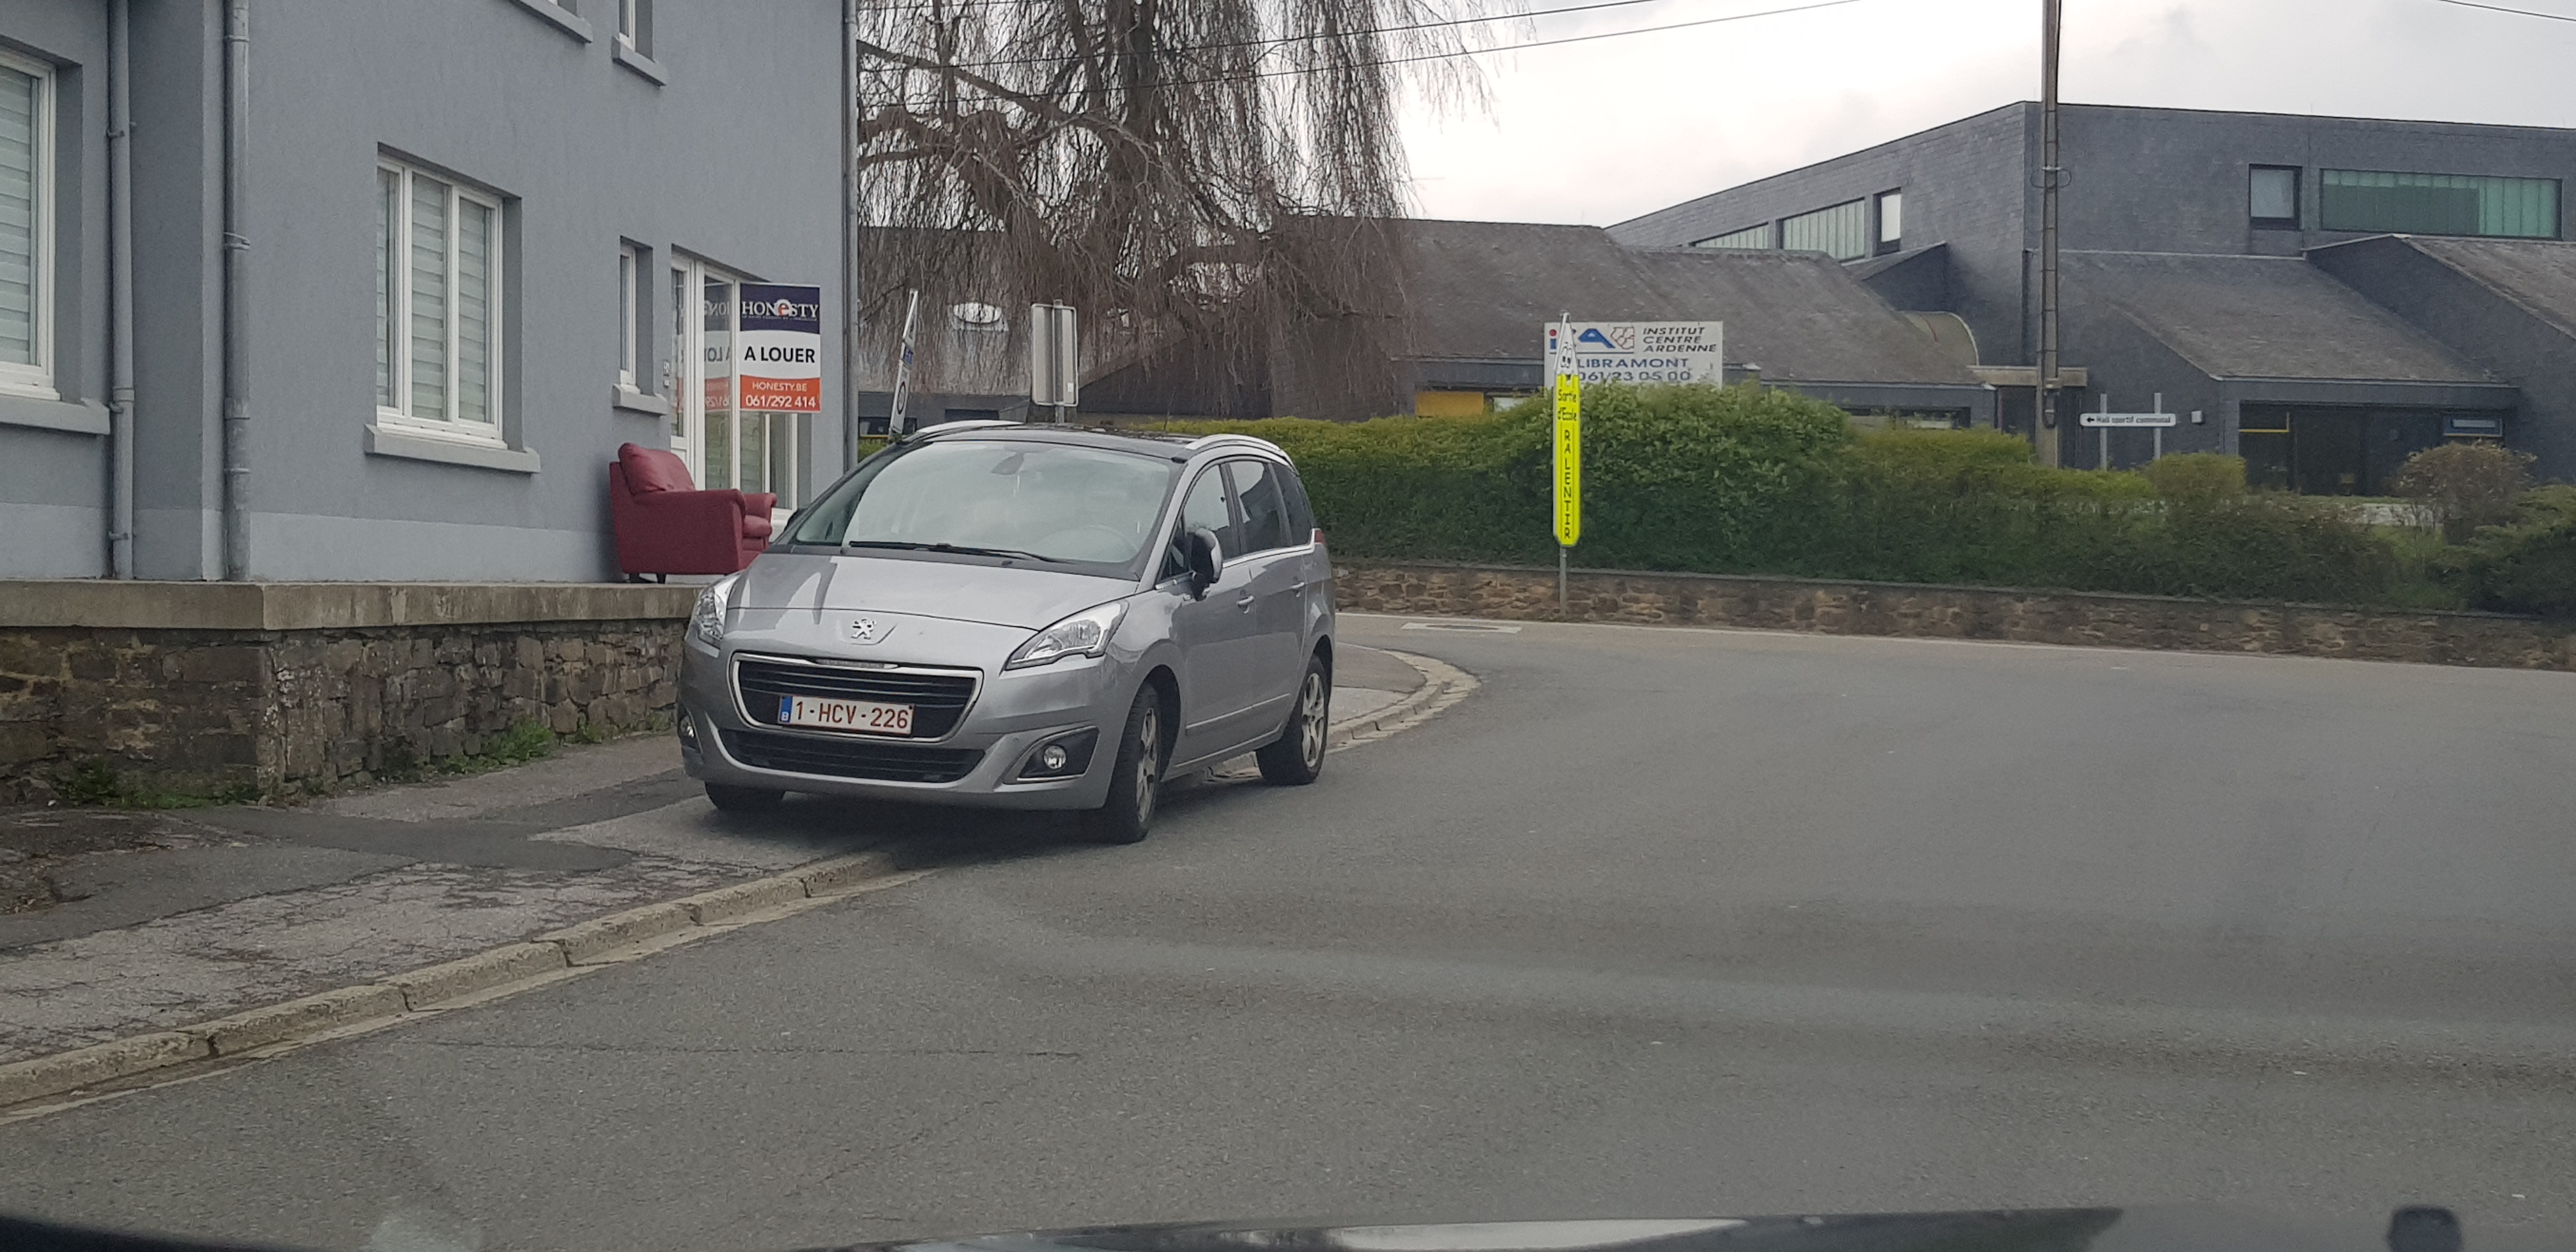licenceplate: (775, 690, 916, 738)
